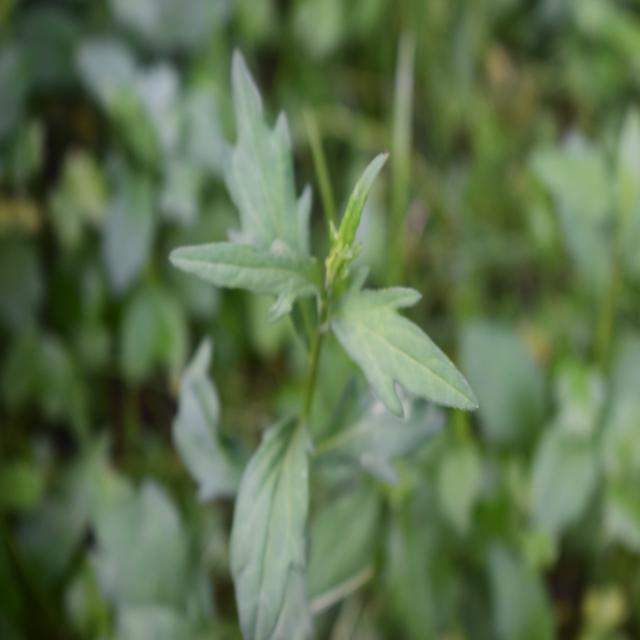Indian aster: (156, 95, 472, 534)
